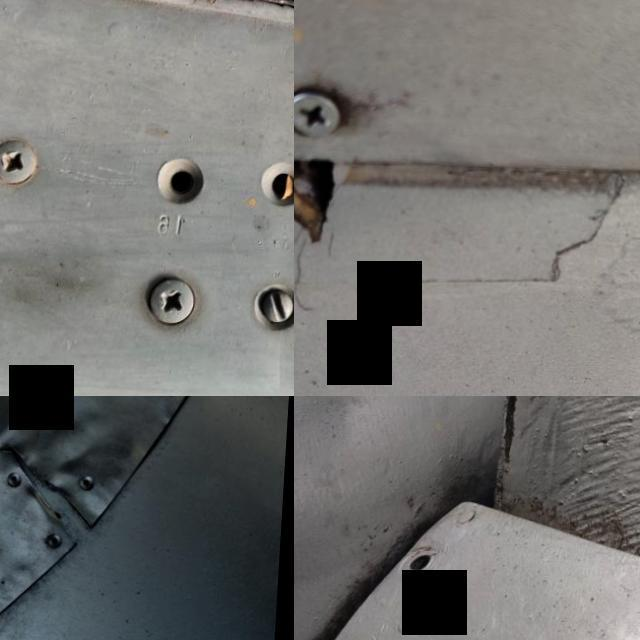Crack: (0, 419, 114, 556), (294, 127, 378, 282)
Dent: (0, 396, 114, 522)
Missing_Fastener: (132, 134, 238, 235), (391, 528, 459, 592)
